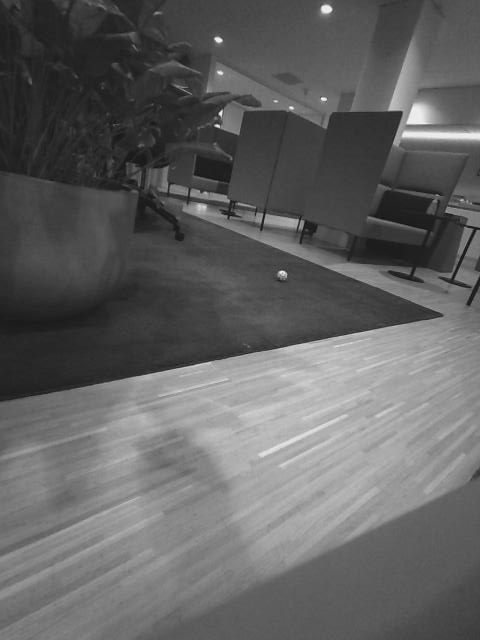dogtoy: (273, 267, 290, 283)
